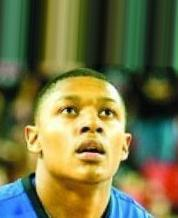face: (58, 94, 122, 162)
